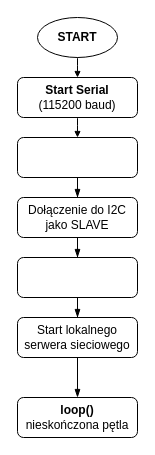
This 155x455 diagram has some shape labels left out. The box of each missing label's shape, as (x1, y1, x2, y2) in pixels:
Uruchomienie magistrali I2C: (16, 136, 138, 178)
Uruchomienie rozszerzenia WiFi: (16, 256, 138, 298)
